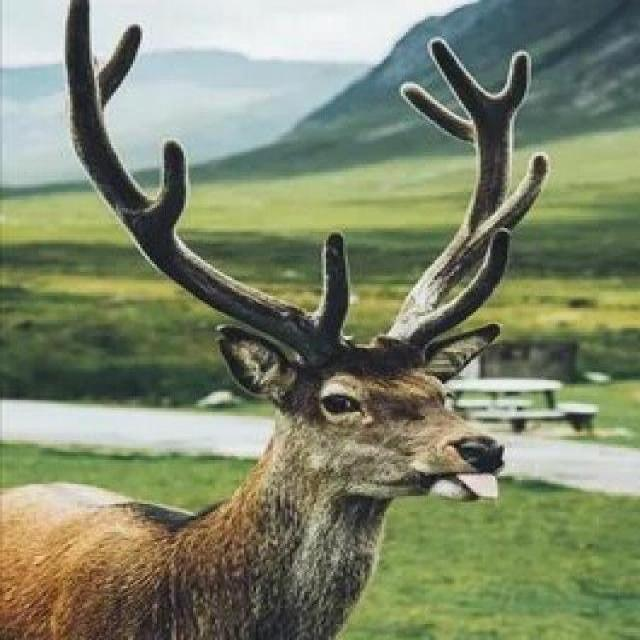deer: (15, 88, 518, 612)
